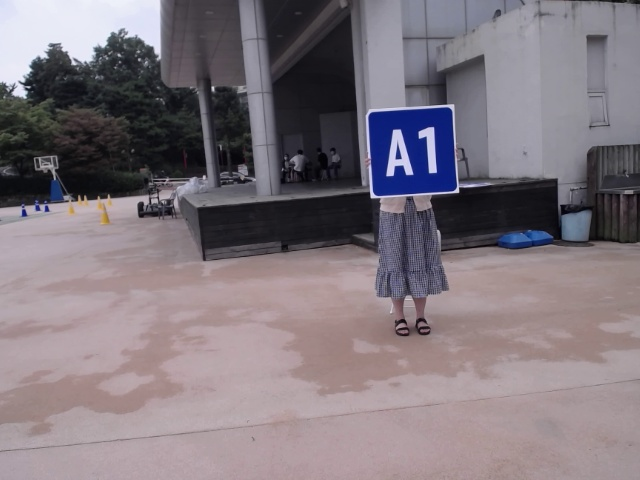delivery_a1: (366, 105, 459, 198)
